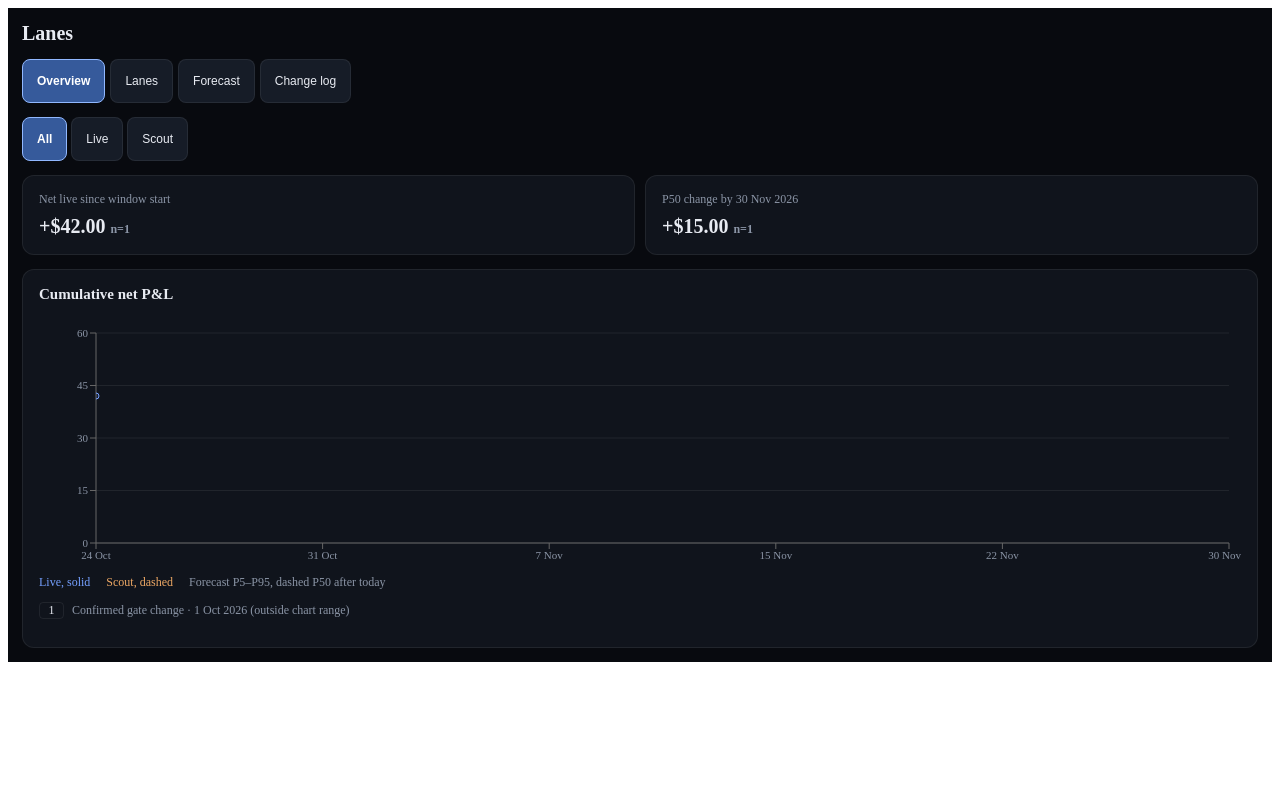
Test case: LanePerformanceView › renders lane cards, verdicts, units, stale persisted verdict and the marker legend
The image size is (1280, 800).
Click the button "Lanes". click: [142, 81]
box: top-left (110, 59), bottom-right (173, 103)
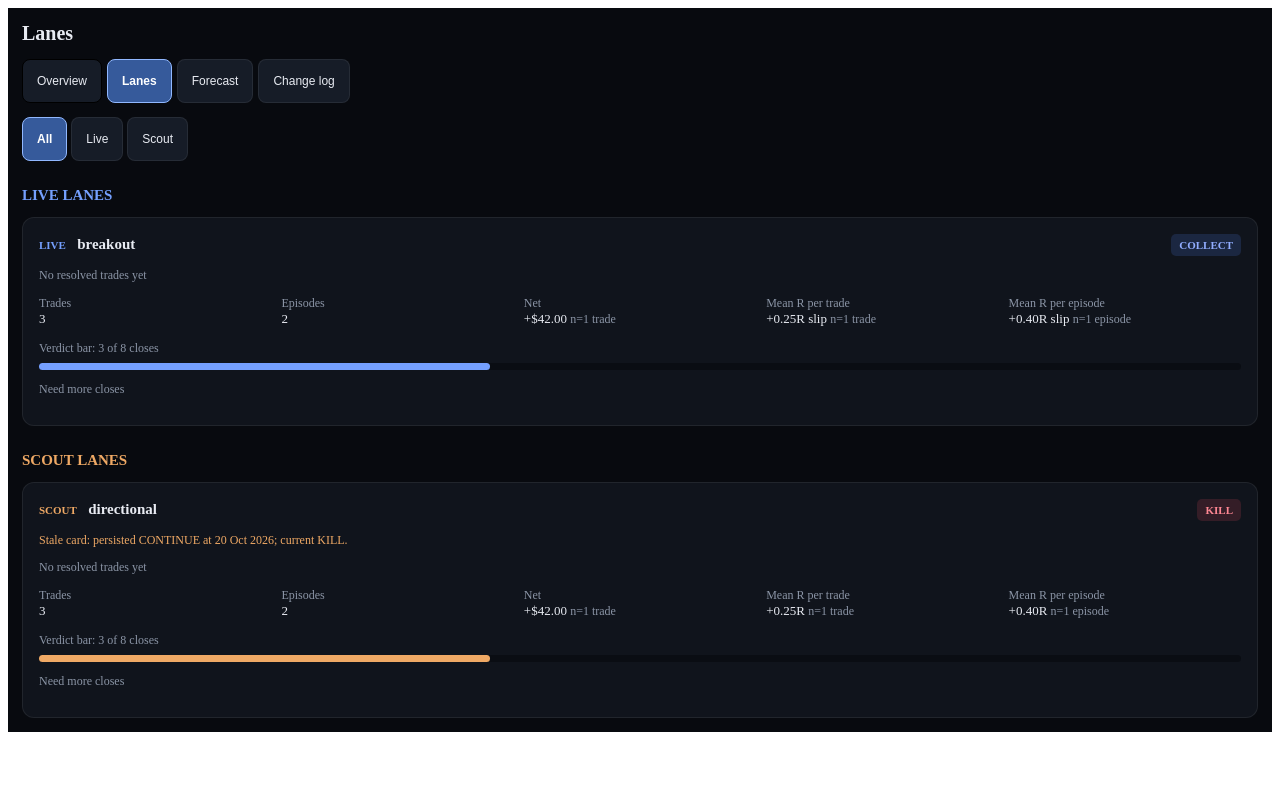
Expected: the number of elements with test id "lane-card" is 2, top-left (22, 217), bottom-right (1258, 426); top-left (22, 482), bottom-right (1258, 718)
Expected: the text "KILL" is shown, top-left (1198, 499), bottom-right (1241, 521)
Expected: the text "COLLECT" is shown, top-left (1171, 234), bottom-right (1241, 256)
Click the button "Overview". click: [62, 81]
box: top-left (22, 59), bottom-right (102, 103)
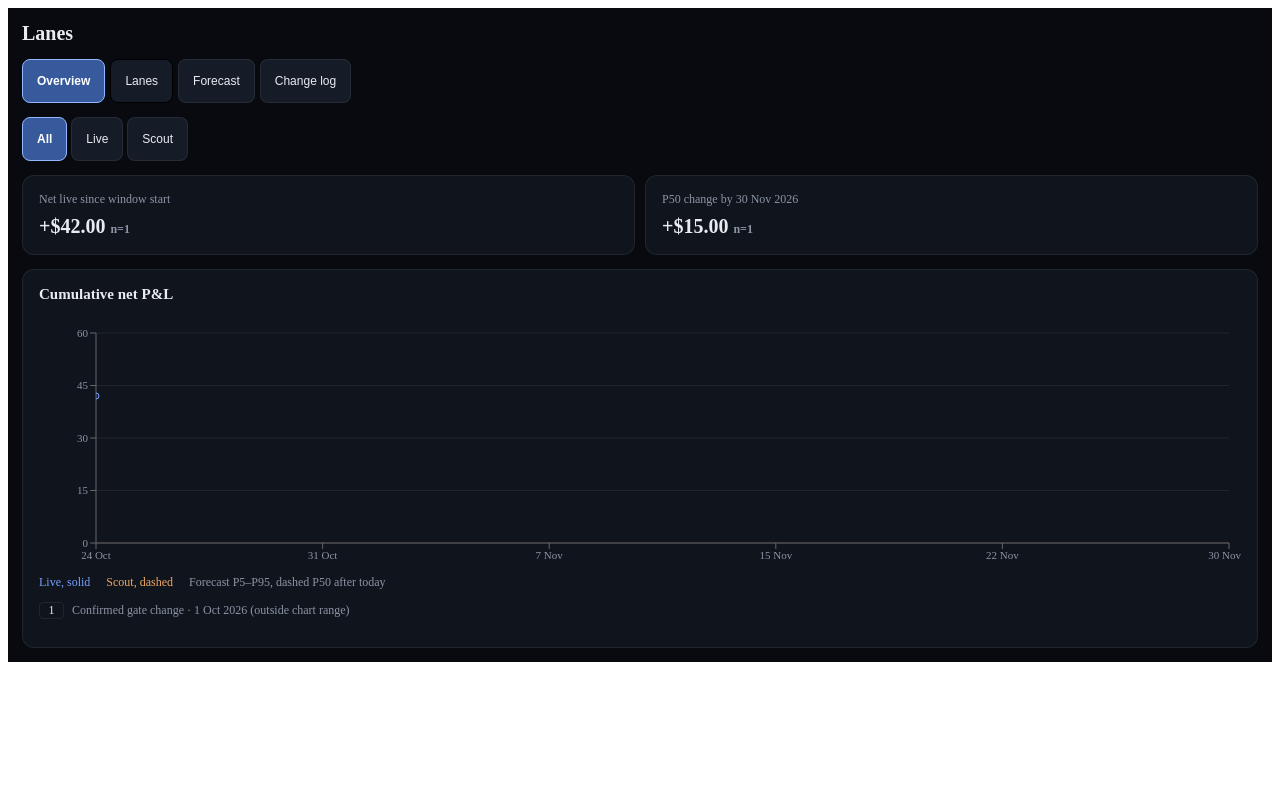
Expected: the list named "Confirmed change marker legend" shows "Confirmed gate change", top-left (72, 603), bottom-right (184, 617)
Expected: the text named "Marker 1" reads "1", top-left (48, 603), bottom-right (54, 617)
Expected: the text "Forecast P5–P95, dashed P50 after today" is shown, top-left (189, 575), bottom-right (386, 590)
